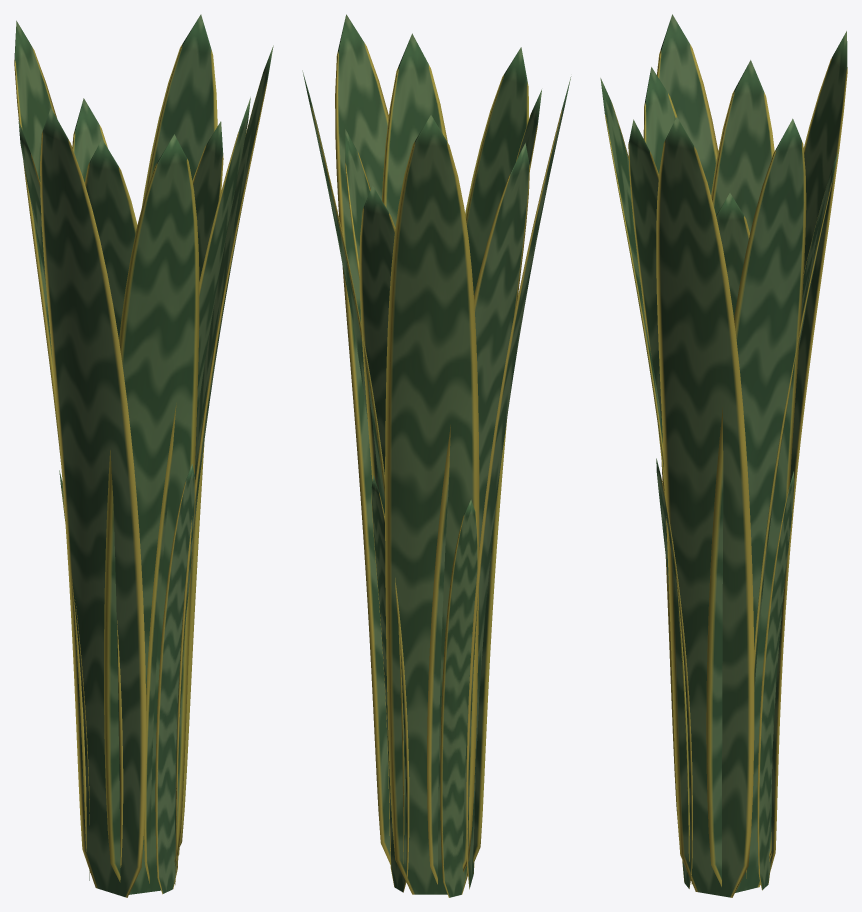
Rendered from hardleaf.glb.
3 renders of one model, left to right at view 1: azimuth 30°, elevation 25°; view 2: azimuth 150°, elevation 25°; view 3: azimuth 270°, elevation 25°, orthographic.
Visible parts, largest first — view 1: Foliage; view 2: Foliage; view 3: Foliage.
Boxes of the visible parts, <box> form: Foliage: <box>14,14,273,897</box>; Foliage: <box>302,14,571,897</box>; Foliage: <box>600,14,847,897</box>.
Bounding box in the file's own units: 0.2613 × 0.92 × 0.2508.
1 material, 1 textured.
